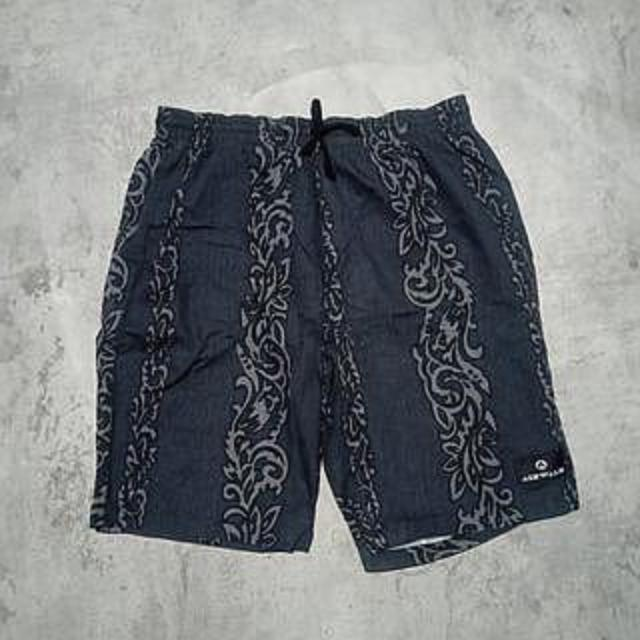SHORT: (68, 87, 598, 585)
